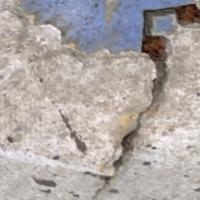crack: (100, 7, 194, 198)
